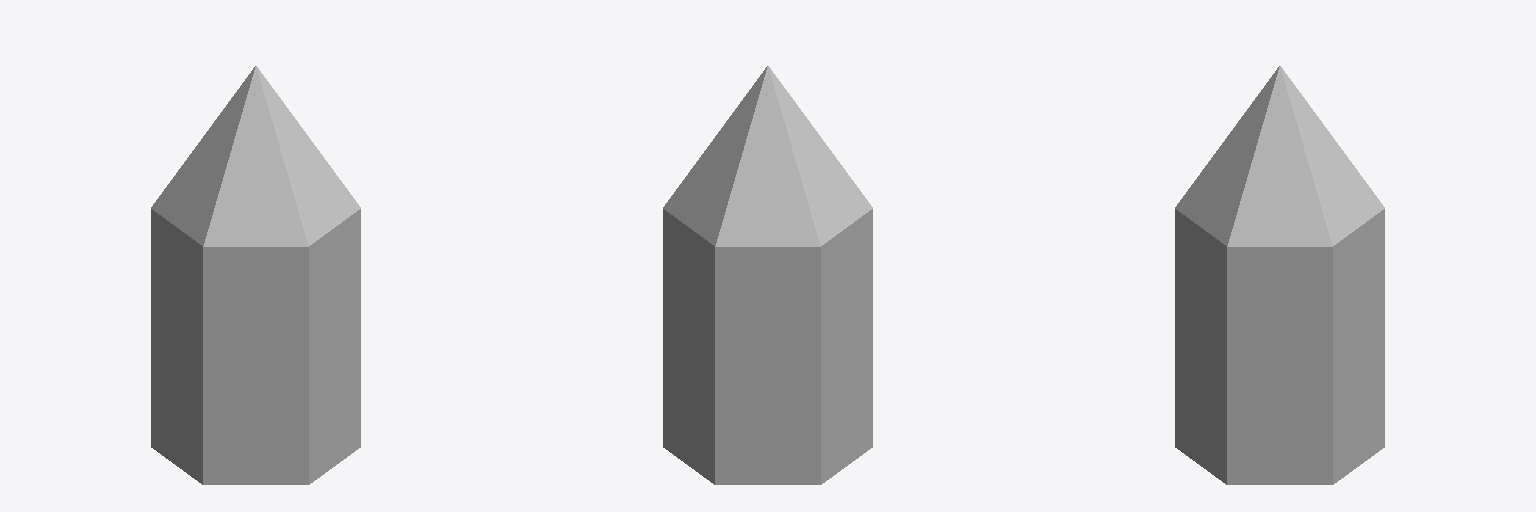
The model's file is Crystal.obj.
The picture shows the model from 3 angles: view 1: azimuth 30°, elevation 25°; view 2: azimuth 150°, elevation 25°; view 3: azimuth 270°, elevation 25°; orthographic projection.
Visible parts, largest first — view 1: Cylinder; view 2: Cylinder; view 3: Cylinder.
Part boxes in pixels (bbox=[...]): Cylinder: bbox=[151, 66, 360, 484]; Cylinder: bbox=[663, 66, 872, 484]; Cylinder: bbox=[1175, 66, 1384, 484].
Size of the model in its own units: 1.73 by 4 by 2.